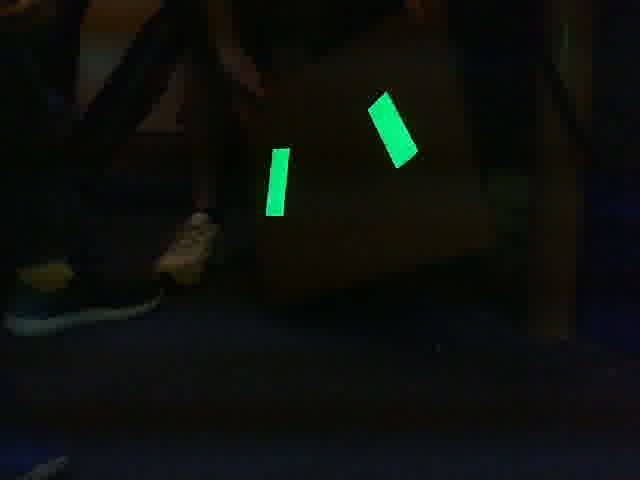target: (264, 92, 420, 217)
